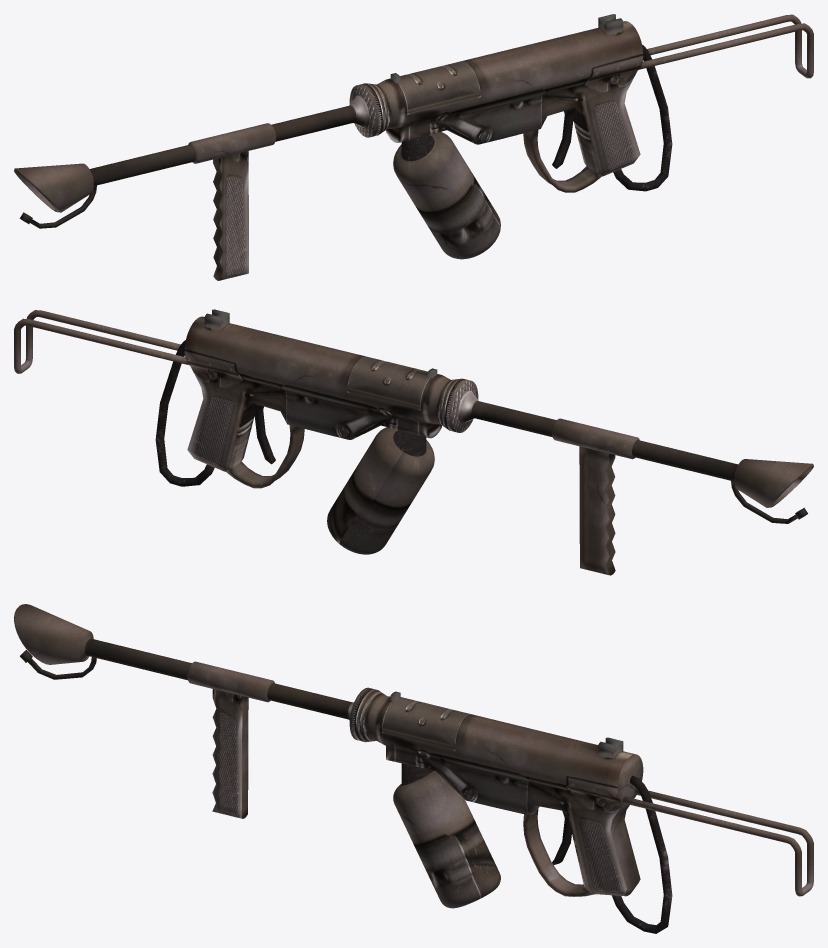
Rendered from flamermk2.obj.
The picture shows the model from 3 angles, top to bottom: view 1: azimuth 30°, elevation 25°; view 2: azimuth 150°, elevation 25°; view 3: azimuth 330°, elevation 25°; orthographic projection.
Parts seen in each view (by area): view 1: flamer_Cylinder; view 2: flamer_Cylinder; view 3: flamer_Cylinder.
Boxes of the visible parts, <box> form: flamer_Cylinder: <box>14,14,813,280</box>; flamer_Cylinder: <box>14,309,813,575</box>; flamer_Cylinder: <box>14,604,813,933</box>.
Size of the model in its own units: 8.08 by 1.95 by 0.5831.
